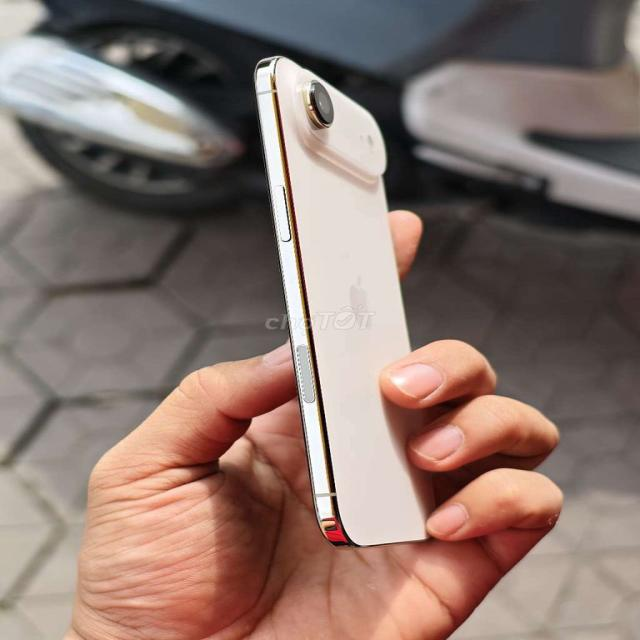gen_17: (244, 54, 473, 558)
